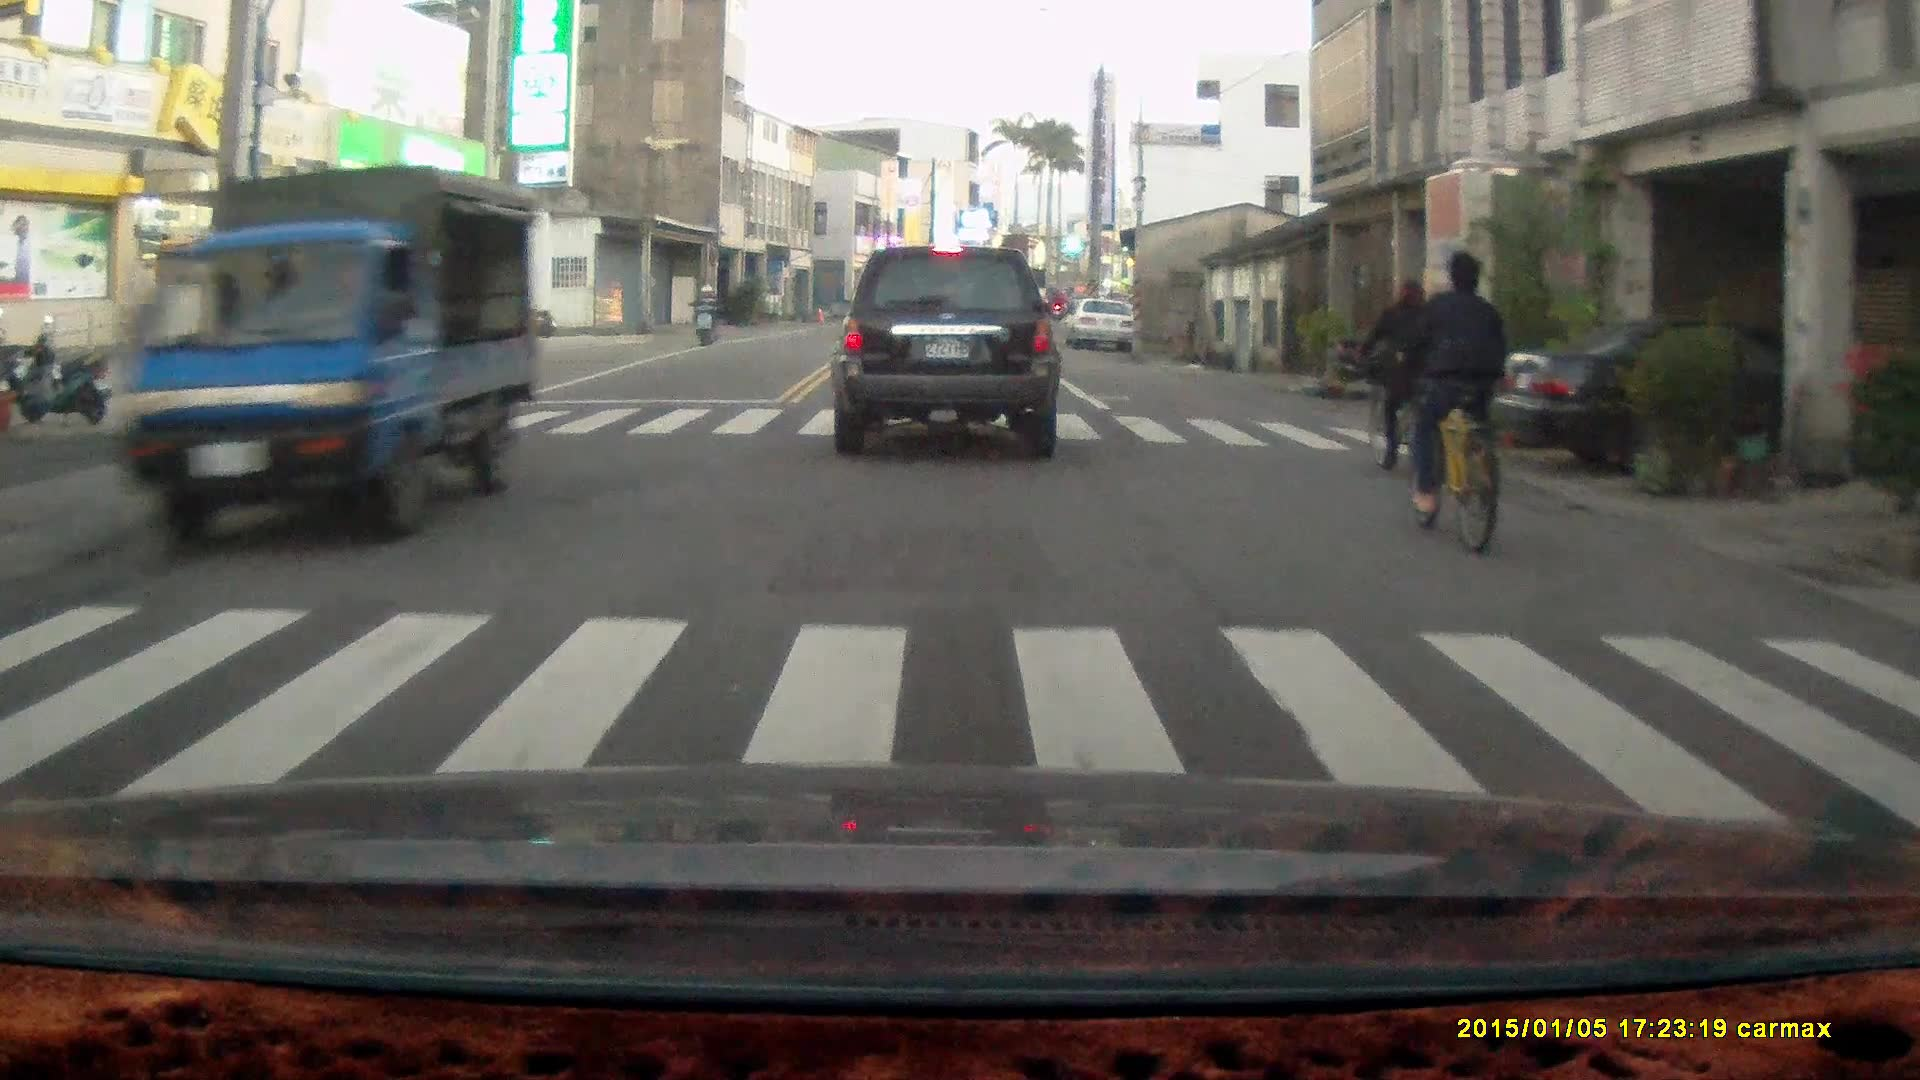rider: (1389, 253, 1506, 560), (1356, 279, 1436, 487), (690, 280, 718, 348)
vehicle: (106, 160, 527, 547), (1488, 315, 1913, 492), (828, 245, 1062, 459), (1063, 299, 1139, 355)
